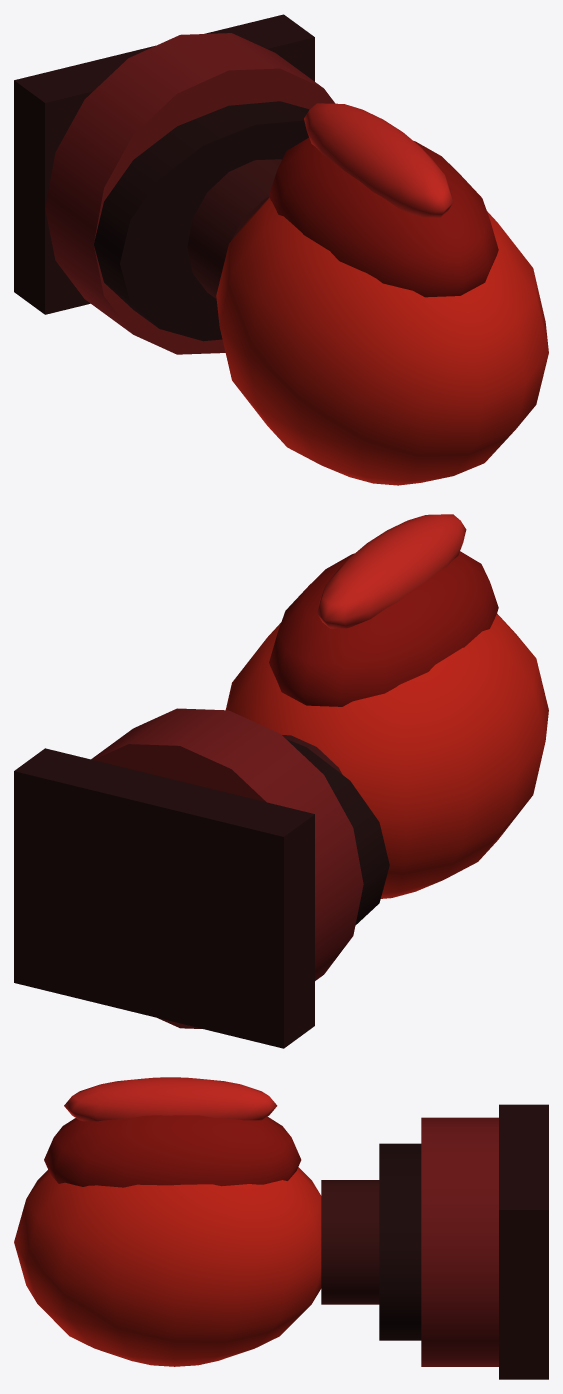
Rendered from CMU3DSmallRedWallLight.glb.
3 renders of one model, top to bottom at view 1: azimuth 30°, elevation 25°; view 2: azimuth 150°, elevation 25°; view 3: azimuth 270°, elevation 25°, orthographic. The views are drawn at different scales.
Parts seen in each view (by area): view 1: Bulb glass body, Socket metal collar, Socket black insulator, Glass midtone, Socket wall foot, Glass highlight, Bulb neck; view 2: Socket wall foot, Bulb glass body, Socket metal collar, Glass midtone, Glass highlight, Socket black insulator; view 3: Bulb glass body, Socket metal collar, Glass midtone, Socket wall foot, Socket black insulator, Bulb neck, Glass highlight.
Part boxes in pixels (x1,y1,x2,y2): Bulb glass body: [216, 197, 548, 485]; Socket metal collar: [45, 33, 335, 354]; Socket black insulator: [94, 101, 309, 341]; Glass midtone: [269, 137, 498, 297]; Socket wall foot: [14, 14, 314, 314]; Glass highlight: [304, 103, 453, 217]; Bulb neck: [187, 159, 281, 298]; Socket wall foot: [14, 748, 314, 1048]; Bulb glass body: [225, 613, 548, 898]; Socket metal collar: [91, 708, 363, 1028]; Glass midtone: [269, 551, 498, 706]; Glass highlight: [317, 514, 466, 628]; Socket black insulator: [286, 739, 389, 925]; Bulb glass body: [14, 1167, 321, 1366]; Socket metal collar: [421, 1117, 498, 1366]; Glass midtone: [44, 1115, 301, 1187]; Socket wall foot: [499, 1104, 548, 1379]; Socket black insulator: [379, 1143, 421, 1340]; Bulb neck: [321, 1180, 379, 1304]; Glass highlight: [64, 1077, 277, 1121].
Size of the model in its own units: 0.125 by 0.1505 by 0.268.
